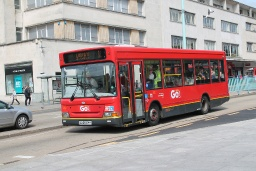bus: (57, 47, 231, 128)
